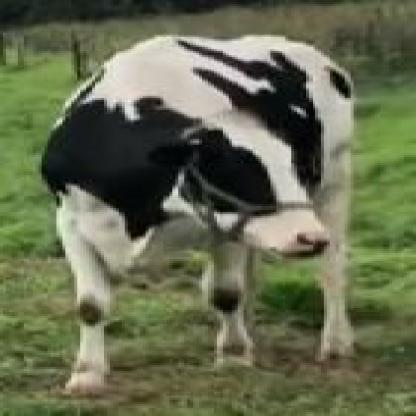cow: (40, 37, 358, 396)
